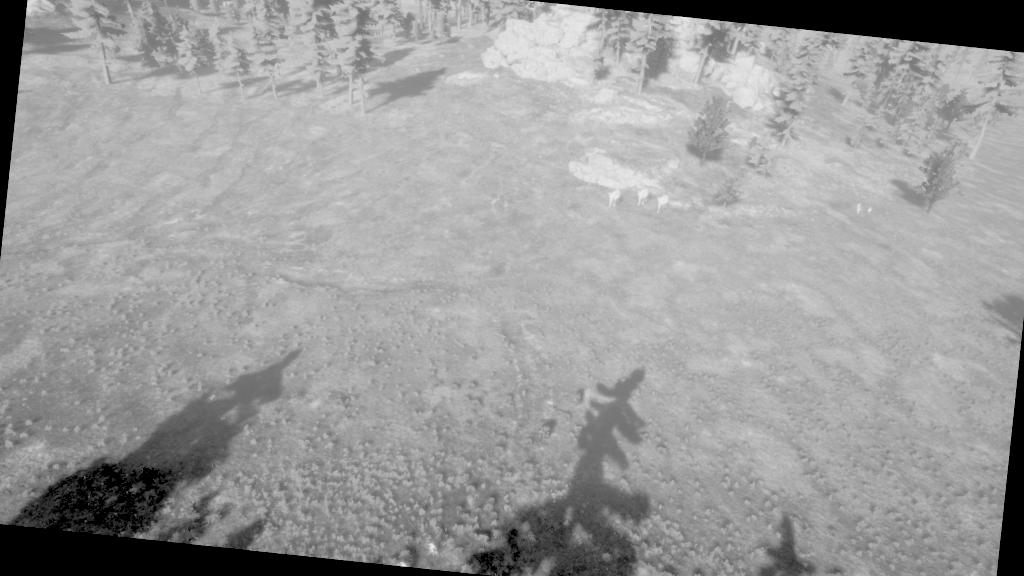elephant: (602, 186, 626, 211), (652, 192, 674, 216), (632, 185, 651, 209)
human: (417, 537, 443, 562), (852, 200, 864, 217)
